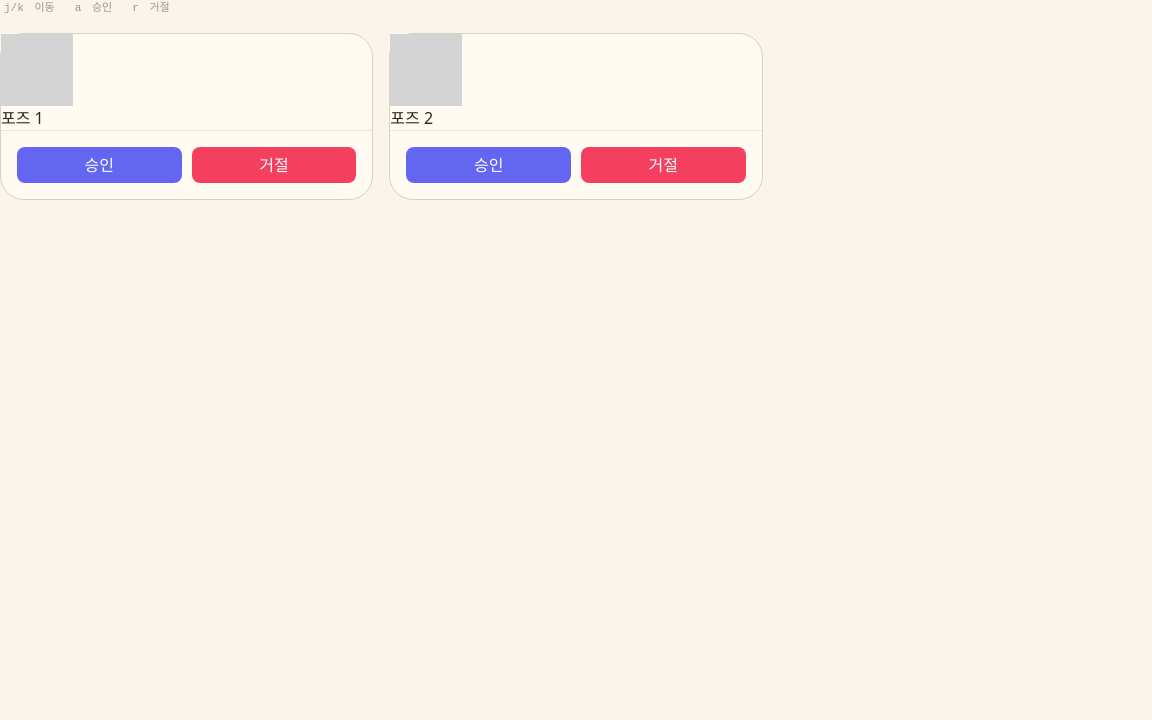
Test: ReviewQueue › 거절 버튼 클릭 시 사유 모달이 열린다
The image size is (1152, 720).
What coordinates should you click on to do the following:
click the button "거절" below "포즈 1"
I would click on:
 (274, 164)
Its box is [192, 146, 356, 182].
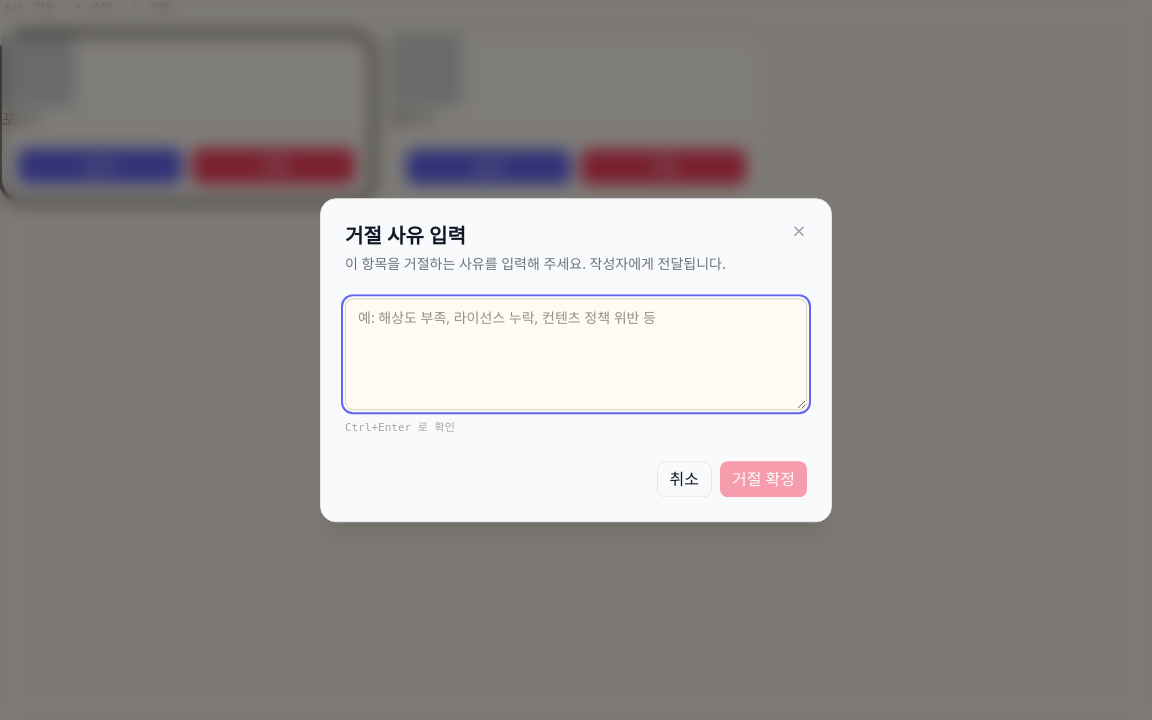
Result: the dialog is shown at [320, 198, 832, 522]
Result: the heading "거절 사유 입력" is shown at [345, 222, 466, 249]
